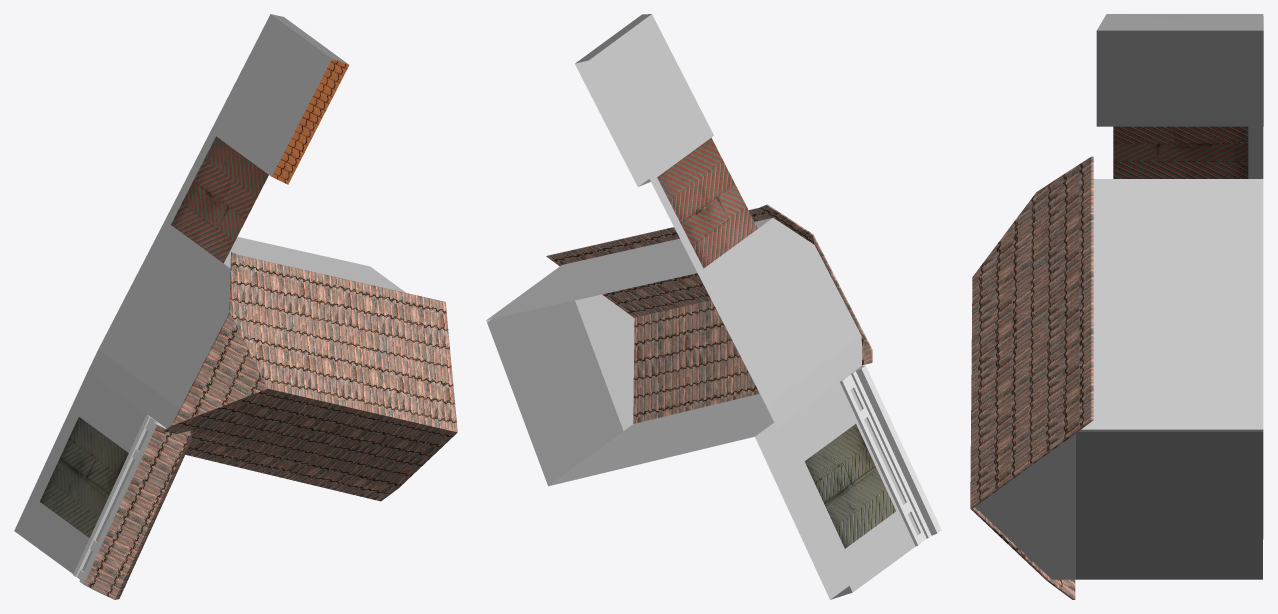
File: Lai_36_b.obj
3 renders of one model, left to right at view 1: azimuth 30°, elevation 25°; view 2: azimuth 150°, elevation 25°; view 3: azimuth 270°, elevation 25°, orthographic. The views are drawn at different scales.
Parts seen in each view (by area): view 1: Lai_36_b; view 2: Lai_36_b; view 3: Lai_36_b.
Part boxes in pixels (x1,y1,x2,y2): Lai_36_b: [14, 14, 457, 599]; Lai_36_b: [486, 14, 941, 599]; Lai_36_b: [970, 14, 1263, 599].
Size of the model in its own units: 11.67 by 13.98 by 6.23.
